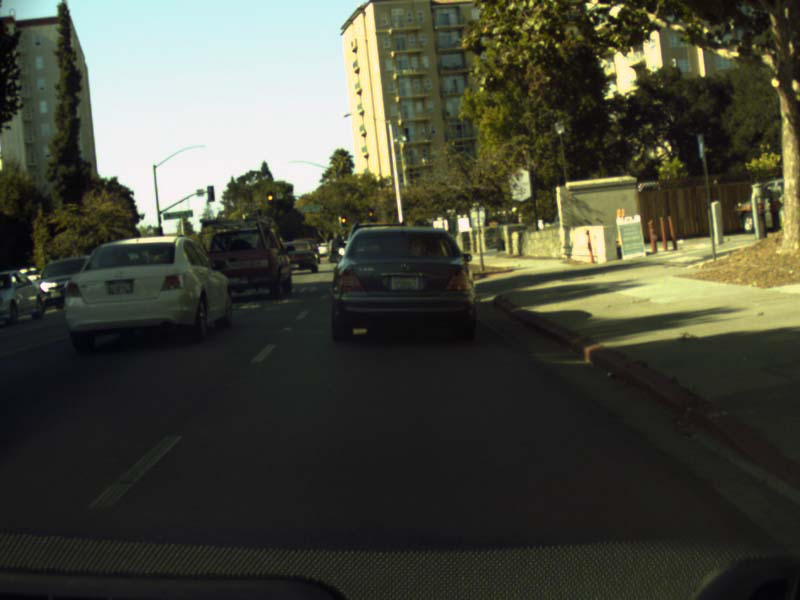Yellow: (341, 215, 347, 226), (368, 208, 374, 219), (267, 191, 272, 204)
